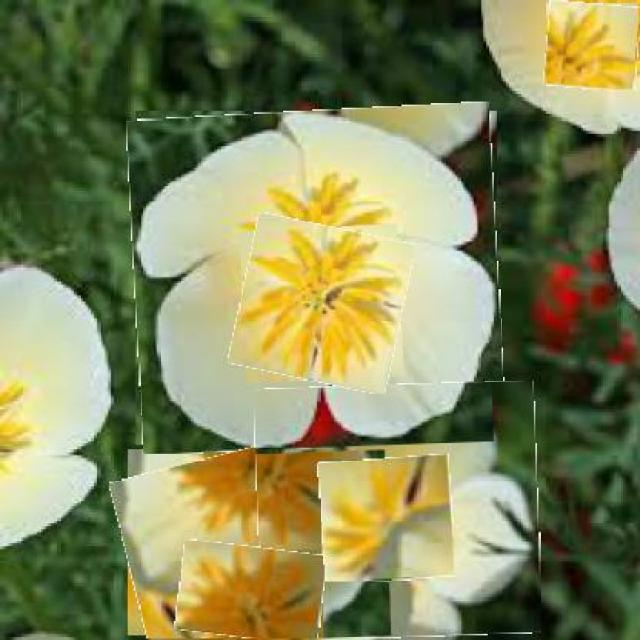Flower: (132, 106, 503, 451), (257, 383, 540, 640), (118, 434, 400, 638), (235, 220, 409, 389), (319, 456, 455, 582), (176, 542, 325, 639), (545, 2, 639, 89)
